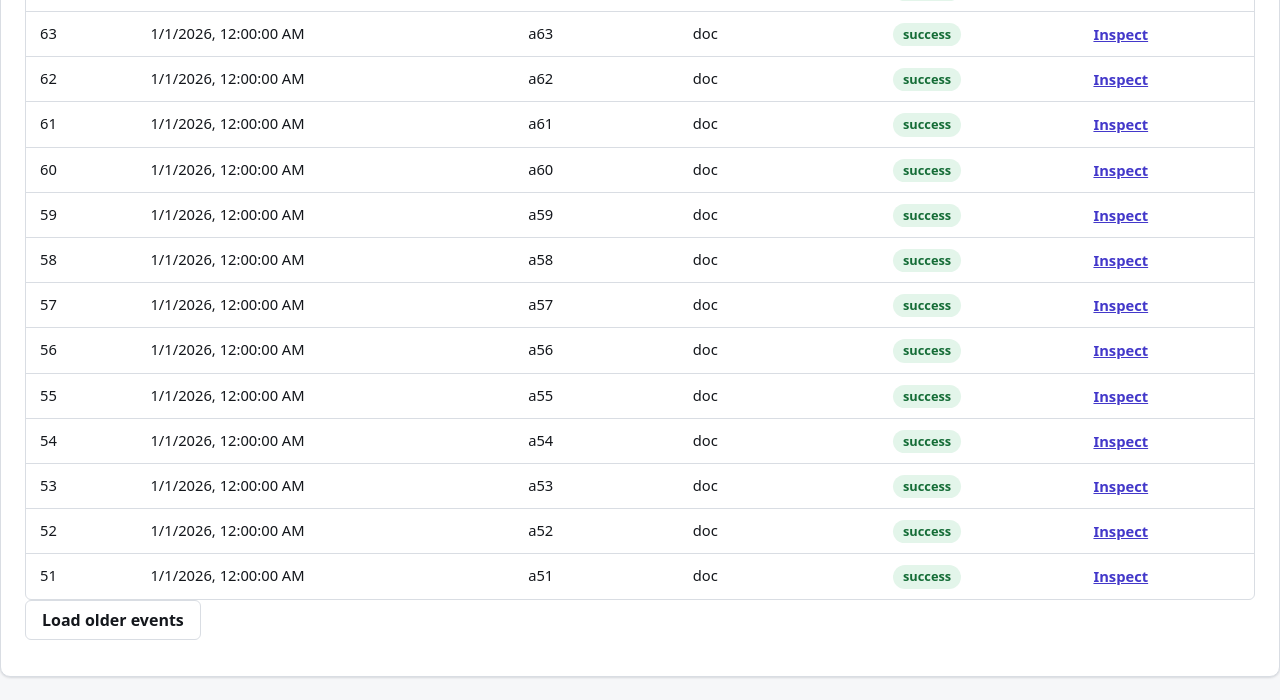
Test case: audit › pages older events using the last sequence number
The image size is (1280, 700).
(page scrolled)
Click the button "Load older events". click: (113, 620)
box: [25, 600, 201, 640]
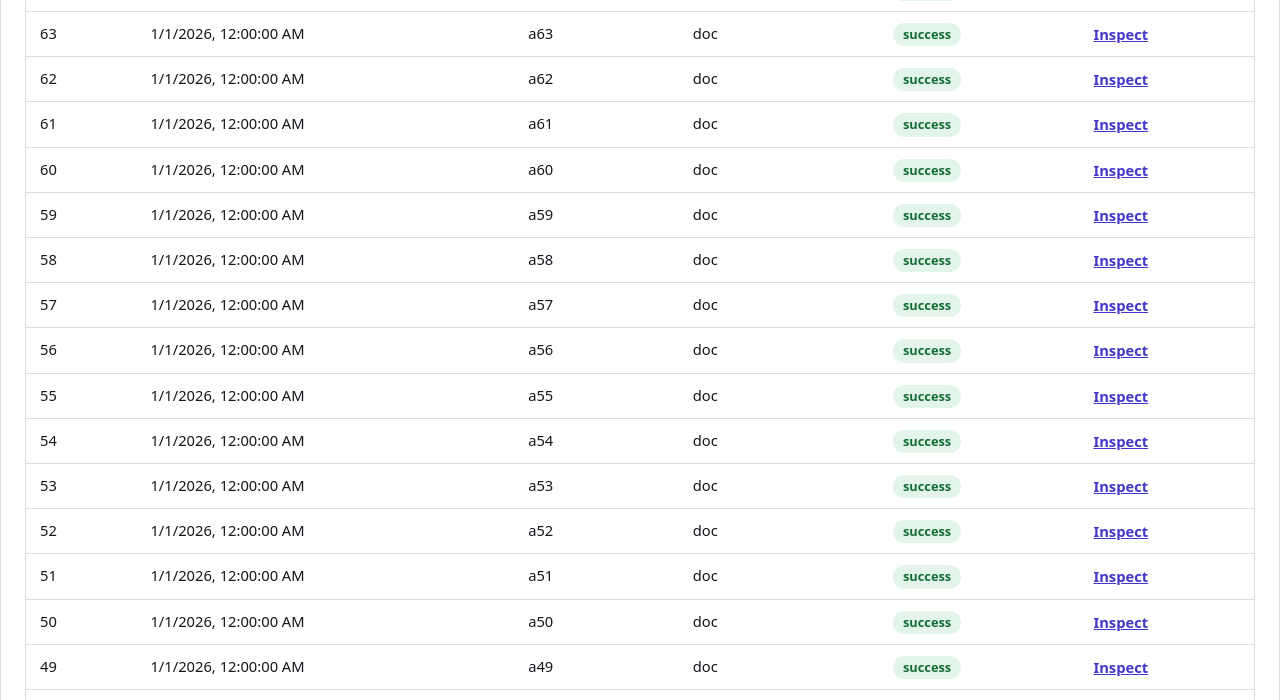
Check: the text "a50" is shown, box [514, 599, 679, 644]
Check: the button "Load older events" is gone
